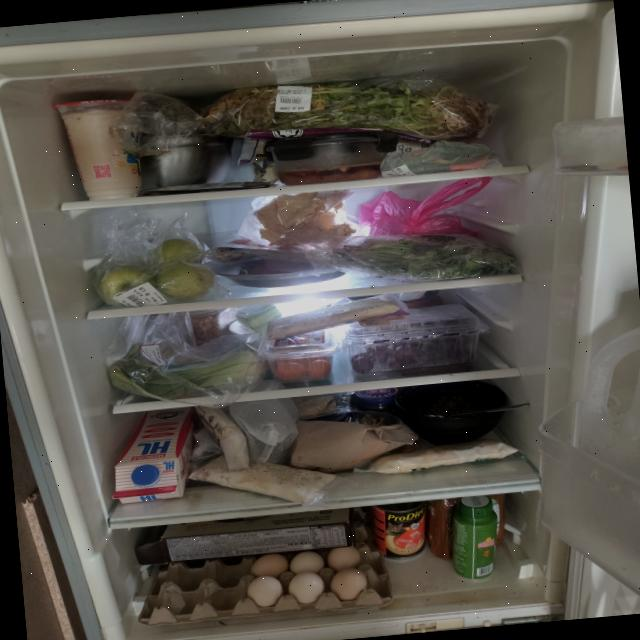apple: (94, 235, 217, 308)
egg: (132, 540, 394, 629)
grape: (346, 318, 474, 374)
leafy_greens: (194, 64, 499, 164), (325, 222, 524, 290), (106, 338, 264, 403), (356, 176, 496, 247)
tempeh: (186, 444, 338, 513), (264, 292, 402, 340), (371, 435, 520, 475), (194, 402, 251, 472)
unknown_bag: (228, 396, 304, 466)
